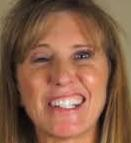strokeEyeSevere: (27, 43, 103, 70)
strokeMouthMid: (44, 93, 89, 114)
